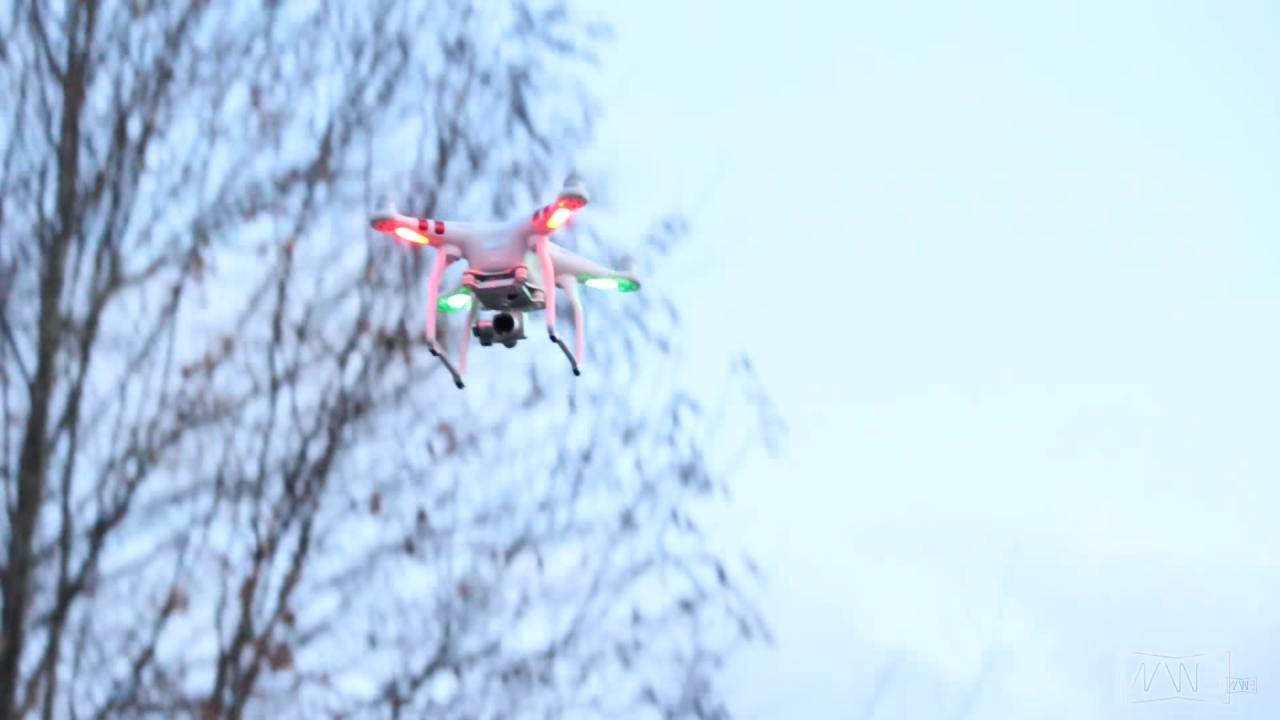Drone: (354, 174, 656, 402)
